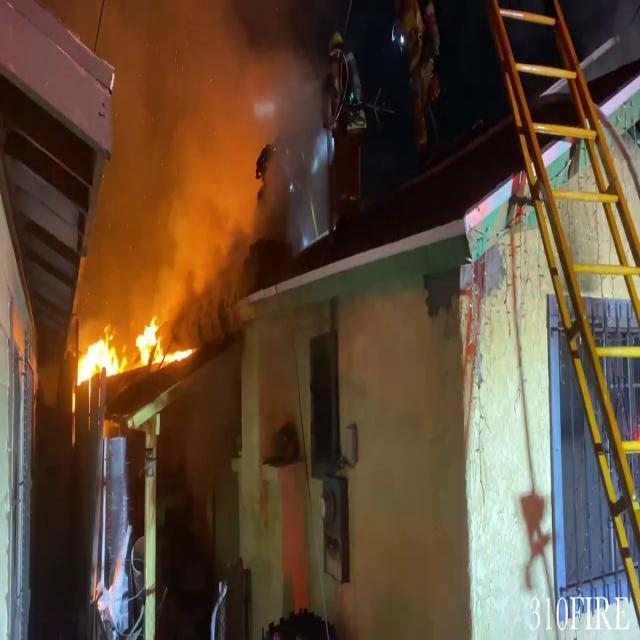Fire: (74, 308, 178, 392)
Smoke: (69, 0, 318, 308)
